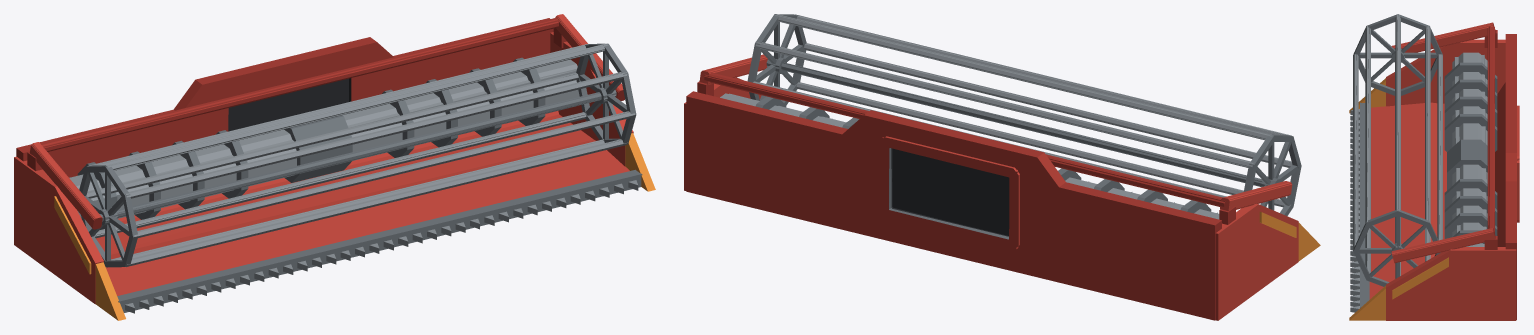
File: FMS_Mach_Header_Grain.fbx
3 views of the same model, side by side, from view 1: azimuth 30°, elevation 25°; view 2: azimuth 150°, elevation 25°; view 3: azimuth 270°, elevation 25° (orthographic). The views are drawn at different scales.
Visible parts, largest first — view 1: Frame, Reel, Frame_Low1, Auger_Cross, Reel_Low1, Reel_Arm, Reel_Arm_Low1, Auger_Cross_Low1; view 2: Frame, Reel, Frame_Low1, Reel_Low1, Reel_Arm, Auger_Cross, Reel_Arm_Low1; view 3: Frame, Reel, Auger_Cross, Frame_Low1, Reel_Arm, Reel_Low1, Auger_Cross_Low1, Reel_Arm_Low1.
Boxes of the visible parts, x1,y1,x2,y2 form: Frame: [14, 18, 655, 320]; Reel: [79, 43, 634, 267]; Frame_Low1: [14, 18, 655, 320]; Auger_Cross: [70, 57, 579, 229]; Reel_Low1: [84, 43, 636, 267]; Reel_Arm: [29, 14, 623, 229]; Reel_Arm_Low1: [31, 14, 624, 229]; Auger_Cross_Low1: [69, 69, 576, 218]; Frame: [684, 77, 1320, 320]; Reel: [747, 14, 1301, 216]; Frame_Low1: [684, 81, 1258, 319]; Reel_Low1: [753, 14, 1292, 213]; Reel_Arm: [699, 54, 1292, 210]; Auger_Cross: [720, 93, 1219, 219]; Reel_Arm_Low1: [700, 57, 1291, 209]; Frame: [1349, 30, 1519, 320]; Reel: [1353, 14, 1442, 286]; Auger_Cross: [1444, 52, 1497, 246]; Frame_Low1: [1349, 30, 1519, 320]; Reel_Arm: [1391, 22, 1495, 262]; Reel_Low1: [1353, 14, 1440, 286]; Auger_Cross_Low1: [1447, 55, 1487, 246]; Reel_Arm_Low1: [1392, 23, 1495, 263].
Bounding box in the file's own units: 6.2 × 1.41 × 2.1.
1 material, 1 textured.
